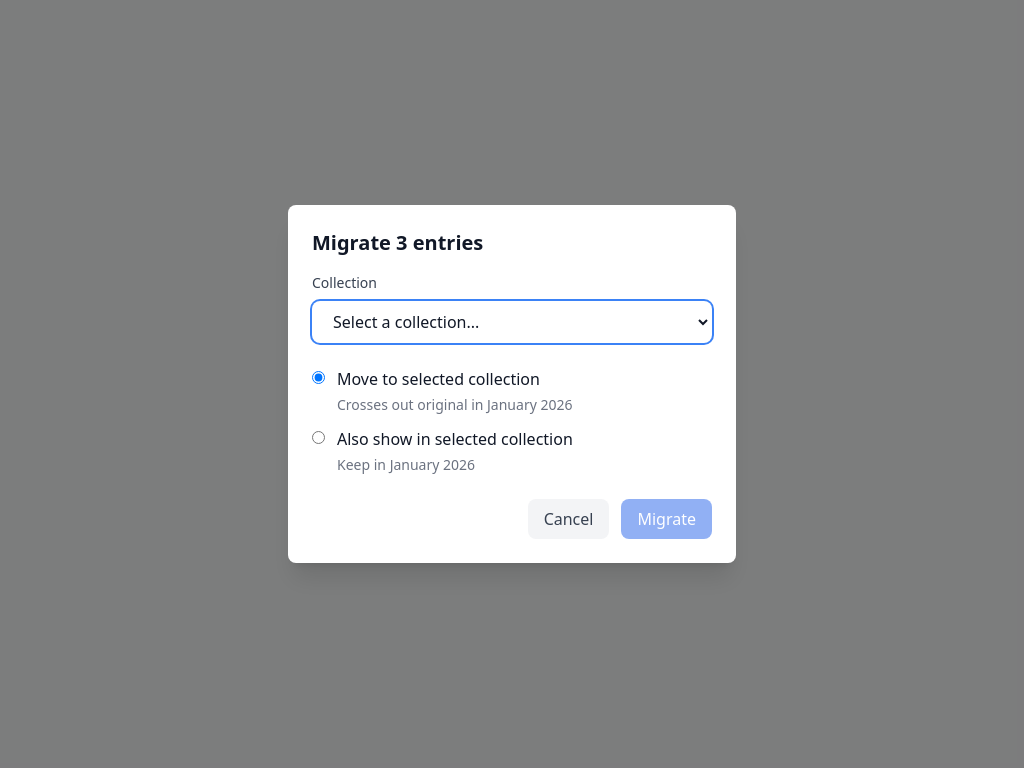
Test case: MigrateEntryDialog - Bulk Migration › Loading State in Bulk Mode › should show "Migrating..." during bulk migration
The image size is (1024, 768).
Note: Select a collection first
Select "Saturday, January 24, 2026" in the dropdown labelled "Collection" at (512, 322), box [312, 301, 712, 343]
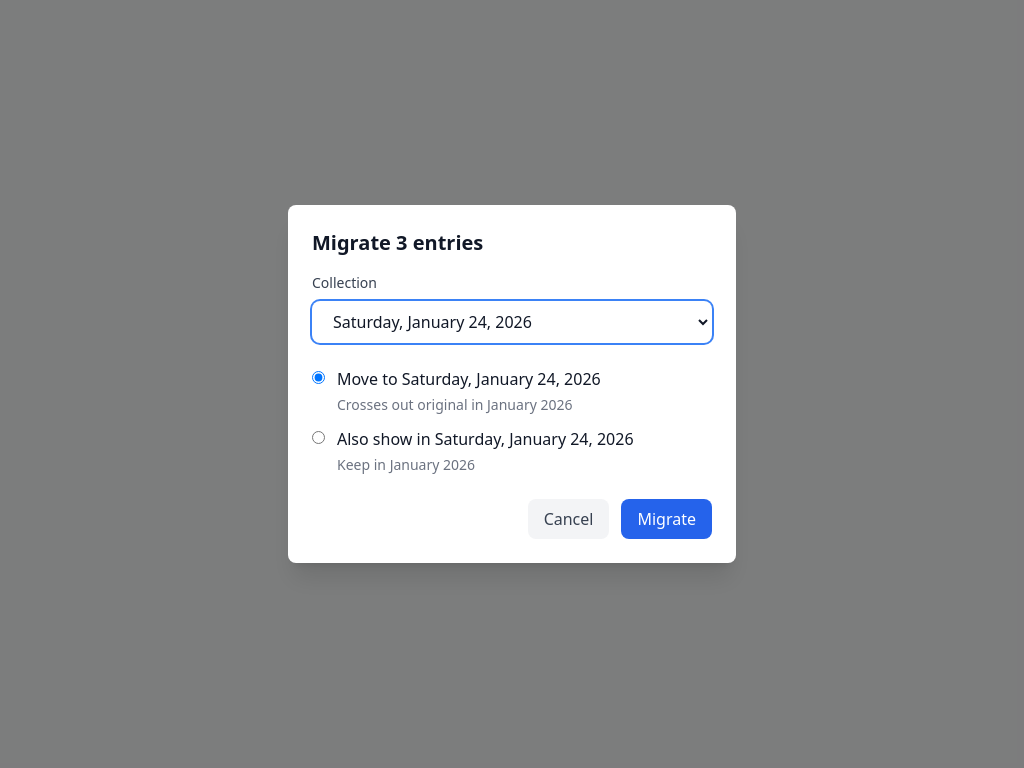
Click the button "Migrate" at (667, 519), box [622, 499, 712, 539]
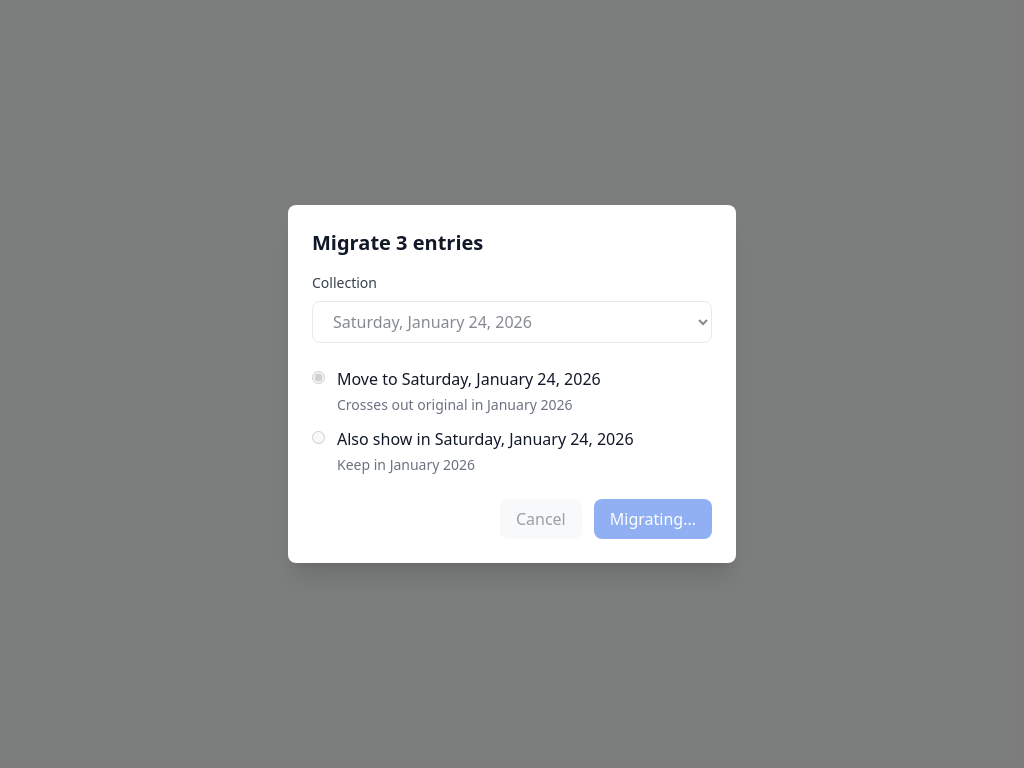
Expected: the button "Migrating..." is shown, [594, 499, 712, 539]
